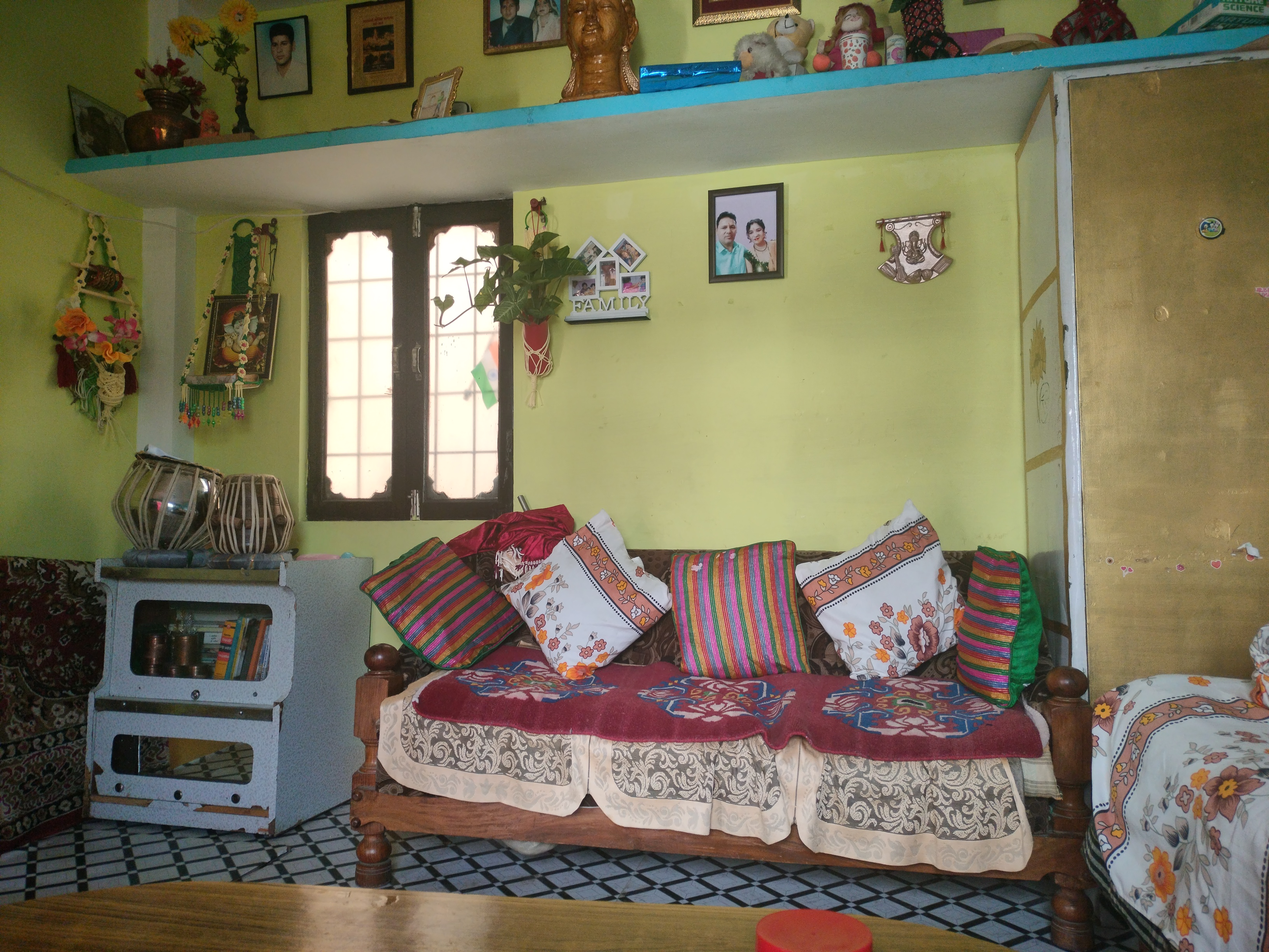sofa: (355, 542, 1092, 952)
table: (5, 879, 1011, 952)
